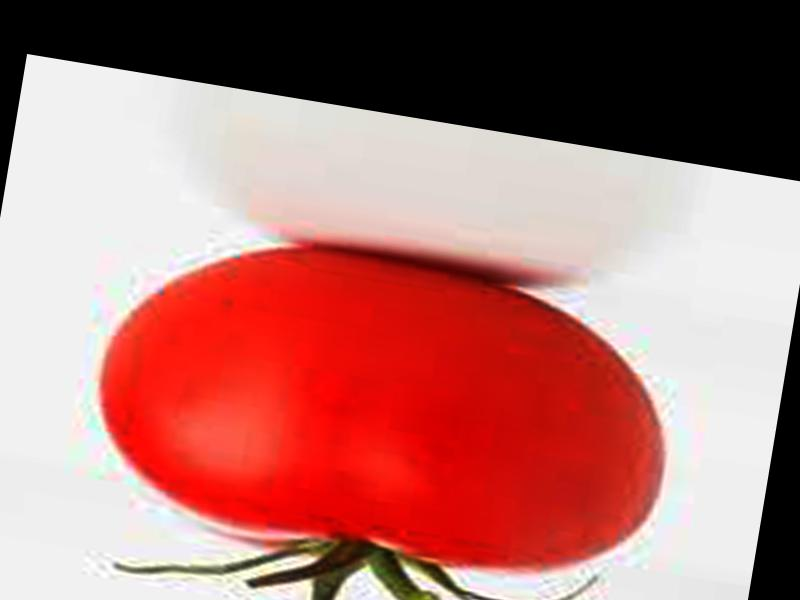Tomato: (79, 215, 685, 597)
